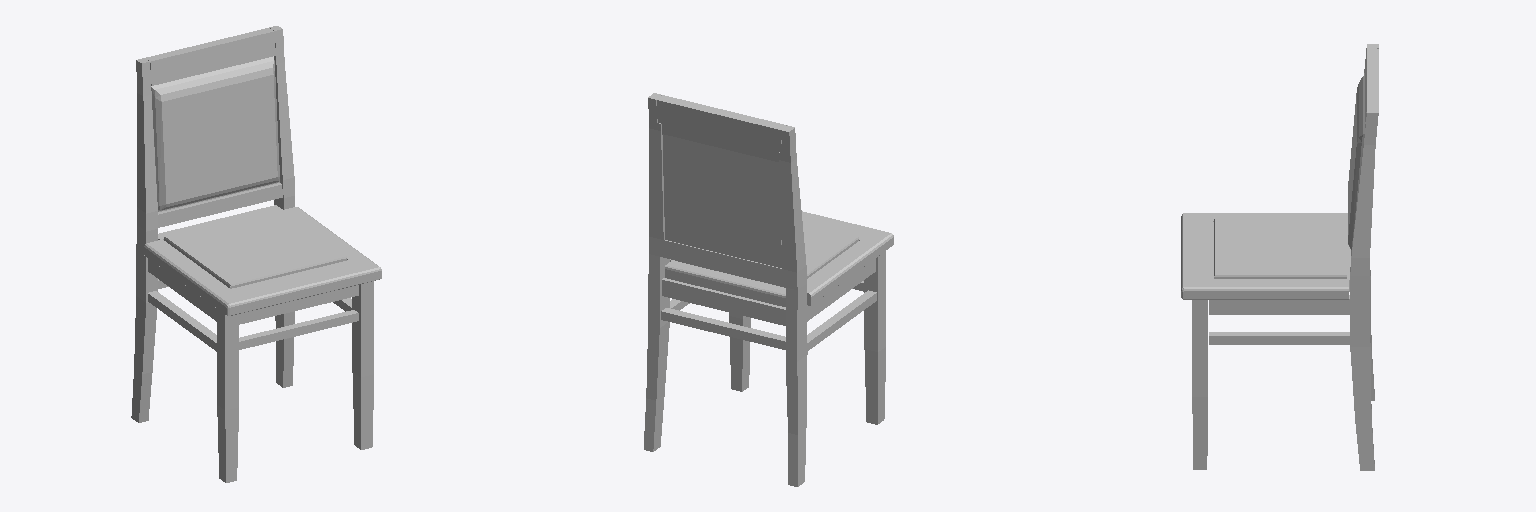
The model's file is SM_Old_Chair_01.obj.
3 renders of one model, left to right at view 1: azimuth 30°, elevation 25°; view 2: azimuth 150°, elevation 25°; view 3: azimuth 270°, elevation 25°, orthographic.
Visible parts, largest first — view 1: Object424; view 2: Object424; view 3: Object424.
Boxes of the visible parts, <box> form: Object424: <box>131,26,381,482</box>; Object424: <box>644,93,893,486</box>; Object424: <box>1181,44,1378,470</box>.
Bounding box in the file's own units: 60.7 × 133 × 66.83.